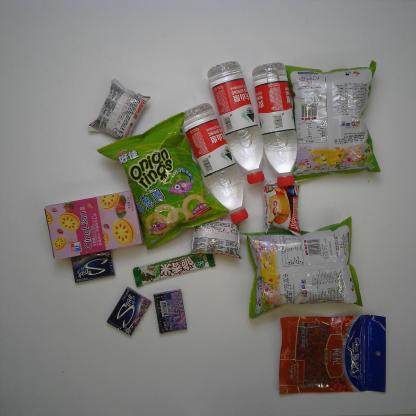Chocolate: (133, 250, 215, 287)
Dessert: (44, 191, 144, 261), (86, 77, 151, 141), (260, 178, 302, 239), (189, 216, 244, 262)
Dried Fruit: (278, 314, 388, 395)
Drink: (183, 102, 250, 224), (206, 59, 268, 185), (251, 60, 300, 187)
Gum: (107, 287, 152, 337), (70, 249, 116, 284), (153, 288, 187, 334)
Puffed Food: (96, 110, 230, 250), (239, 214, 364, 320), (286, 59, 382, 182)
